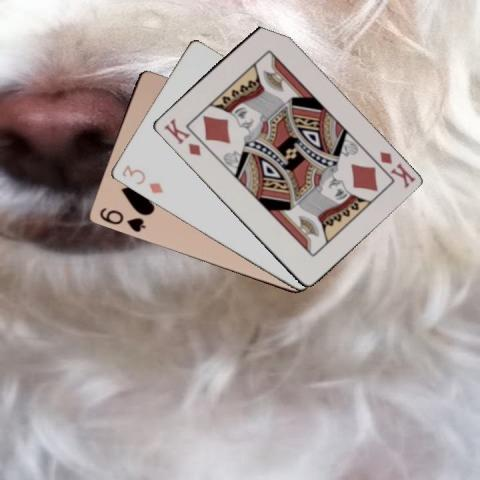3d: (118, 162, 165, 195)
6s: (96, 205, 147, 234)
Kd: (161, 115, 202, 157), (376, 148, 417, 190)
